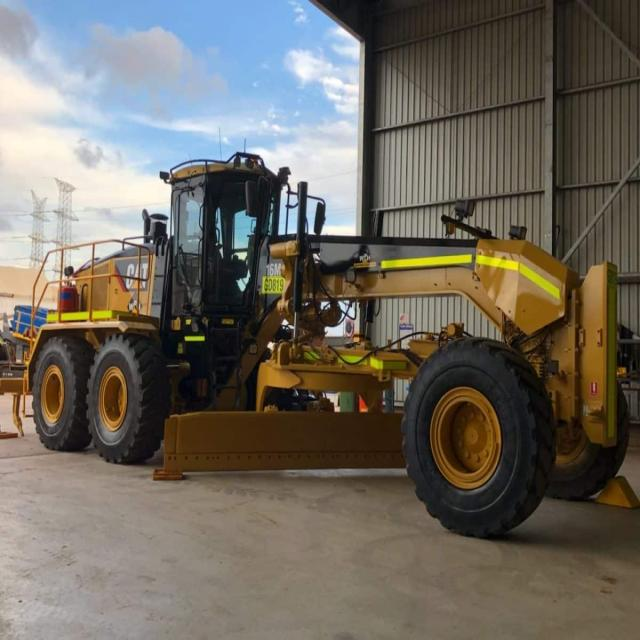buldozerpayloadergrader: (6, 129, 633, 545)
